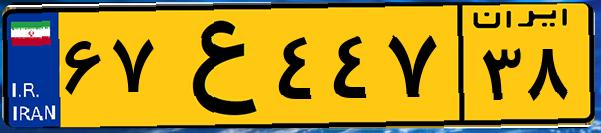3: (475, 38, 525, 113)
4: (270, 28, 330, 110), (330, 28, 385, 110)
6: (57, 26, 110, 100)
7: (385, 28, 445, 110), (110, 28, 158, 98)
8: (525, 38, 570, 115)
ع: (158, 12, 270, 120)
